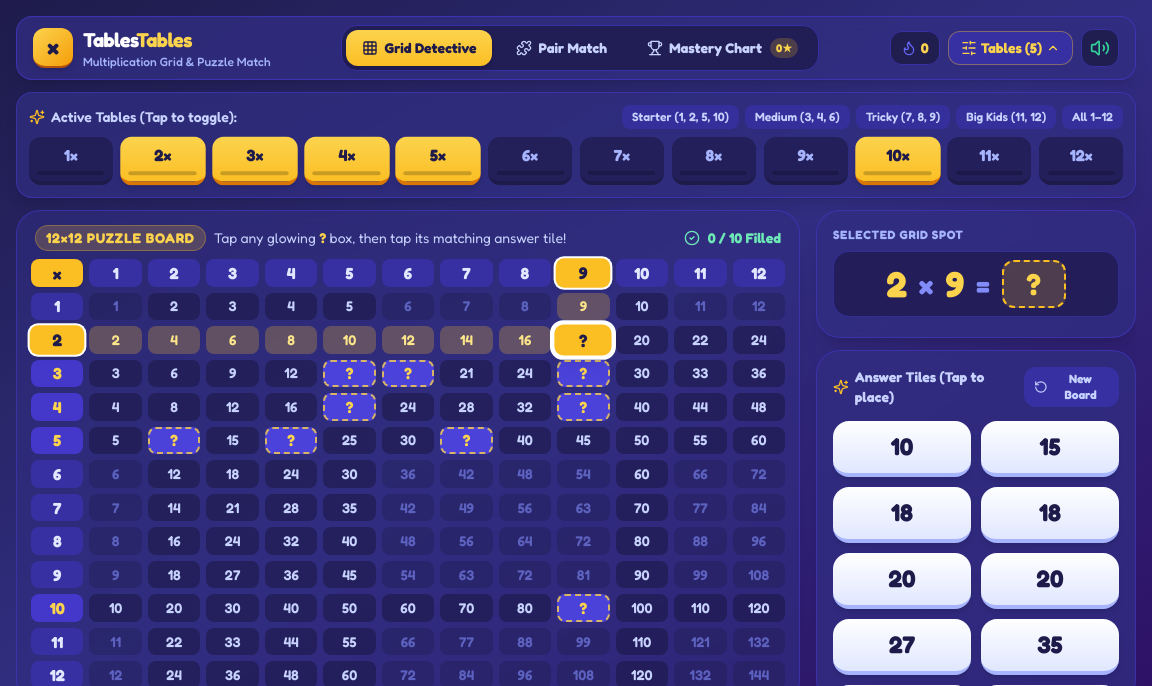
Test: TableSelectorBar & App navigation › switches cleanly between Grid Detective, Pair Match, and Mastery Chart tabs
Expected: the text "12×12 Puzzle Board" is shown, [35,225,206,251]
Click the button "Pair Match" at (562, 48), box [500,30,623,66]
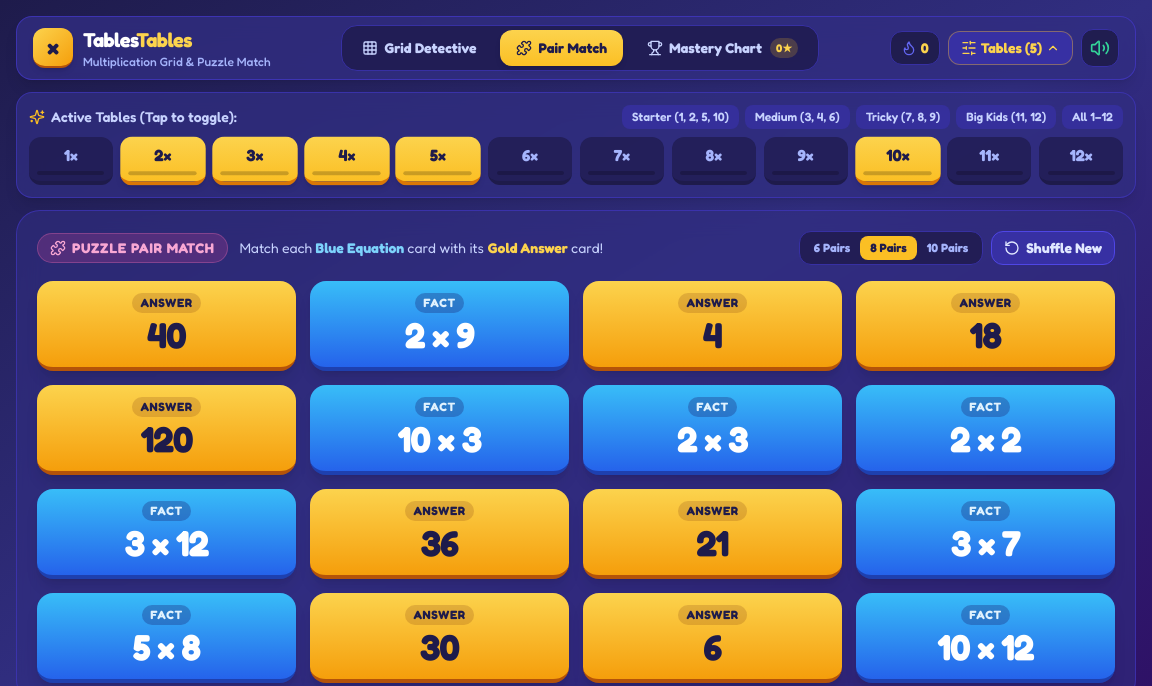
Now the text "Puzzle Pair Match" is shown, box [72,238,214,258]
Click the text "Mastery Chart" at (716, 48), box [669,38,762,58]
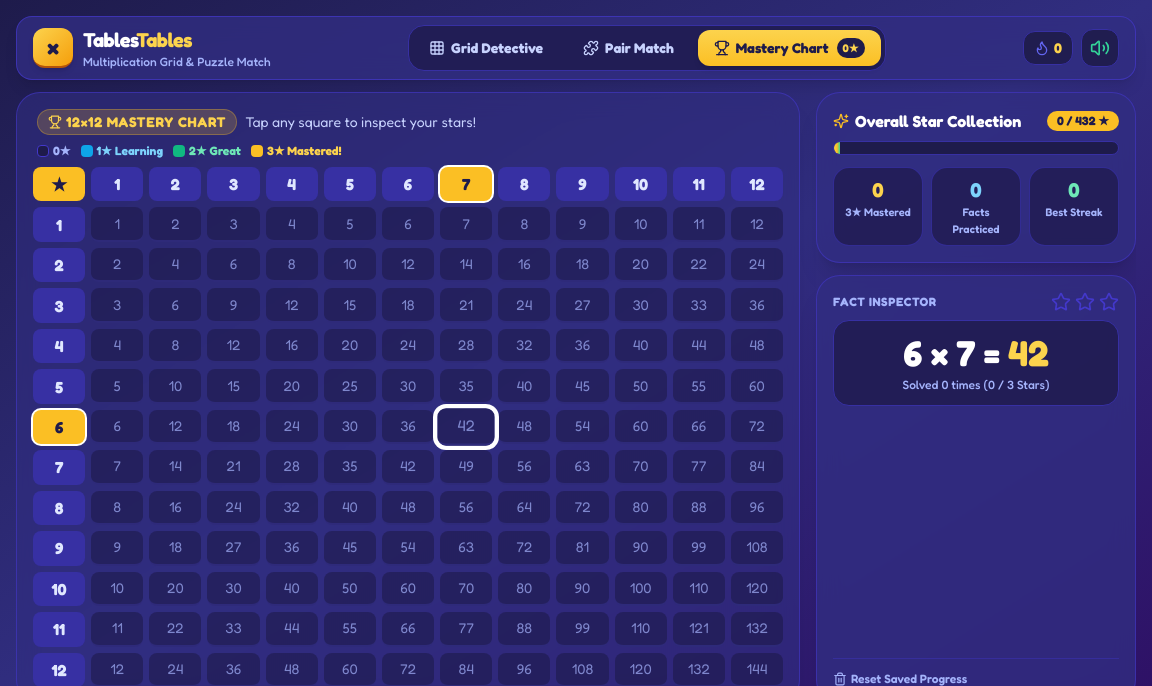
Now the text "Overall Star Collection" is shown, box [855,109,1021,133]
